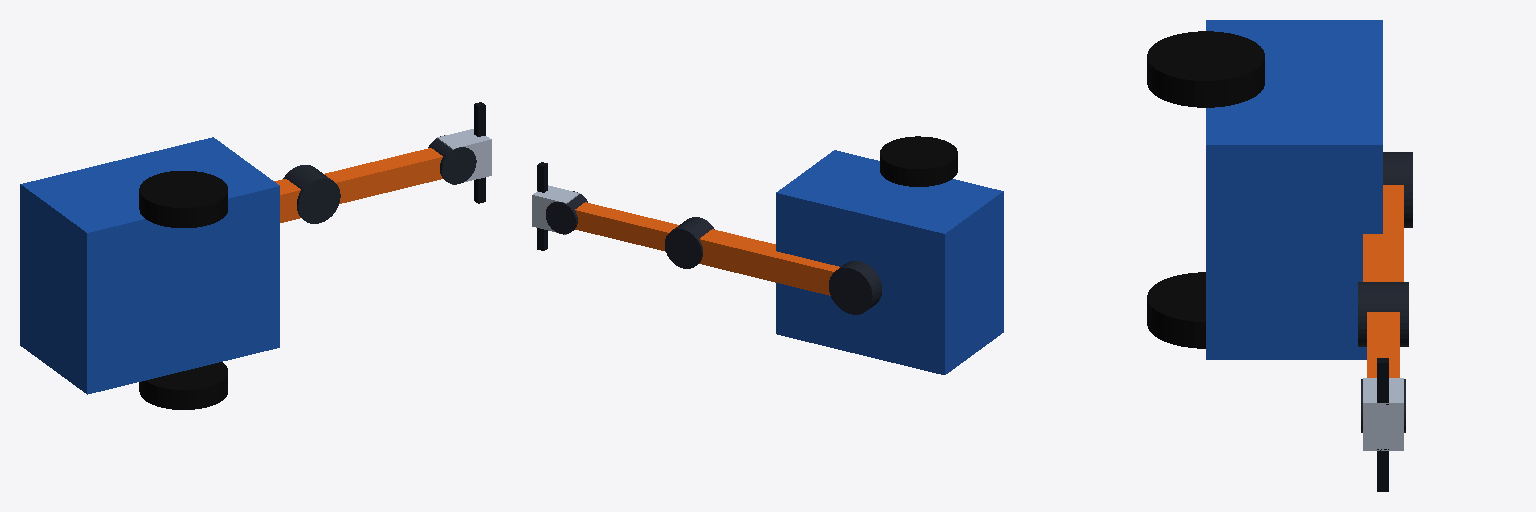
URDF robot description (mm_mobile):
<?xml version="1.0"?>
<robot name="mm_mobile">
  <link name="base_link">
    <visual>
      <origin xyz="0 0 0" rpy="0 0 0"/>
      <geometry>
        <box size="0.5 0.3 0.4"/>
      </geometry>
      <material name="hero_blue">
        <color rgba="0.16 0.38 0.72 1.0"/>
      </material>
    </visual>
    <!-- Collision box is shorter than the visual chassis and shifted down: the
         shoulder pivot sits at +0.15 and the upper-arm collision box (0.08 tall)
         reaches down to +0.11, so a full-height chassis collider interpenetrates
         the arm and contact impulses lock the shoulder joint solid. -->
    <collision>
      <origin xyz="0 0 -0.05" rpy="0 0 0"/>
      <geometry>
        <box size="0.5 0.2 0.4"/>
      </geometry>
    </collision>
  </link>

  <link name="left_wheel">
    <visual>
      <origin xyz="0 0 0" rpy="0 0 0"/>
      <material name="wheel_black">
        <color rgba="0.08 0.08 0.08 1.0"/>
      </material>
      <geometry>
        <cylinder radius="0.1" length="0.05"/>
      </geometry>
    </visual>
    <collision>
      <origin xyz="0 0 0" rpy="1.5708 0 0"/>
      <geometry>
        <cylinder radius="0.1" length="0.05"/>
      </geometry>
    </collision>
  </link>

  <link name="right_wheel">
    <visual>
      <origin xyz="0 0 0" rpy="0 0 0"/>
      <material name="wheel_black">
        <color rgba="0.08 0.08 0.08 1.0"/>
      </material>
      <geometry>
        <cylinder radius="0.1" length="0.05"/>
      </geometry>
    </visual>
    <collision>
      <origin xyz="0 0 0" rpy="1.5708 0 0"/>
      <geometry>
        <cylinder radius="0.1" length="0.05"/>
      </geometry>
    </collision>
  </link>

  <link name="upper_arm_link">
    <visual>
      <origin xyz="0.25 0 0" rpy="0 0 0"/>
      <geometry>
        <box size="0.5 0.07 0.07"/>
      </geometry>
      <material name="hero_arm"><color rgba="0.90 0.42 0.12 1.0"/></material>
    </visual>
    <visual>
      <origin xyz="0 0 0" rpy="1.5708 0 0"/>
      <geometry><cylinder radius="0.065" length="0.10"/></geometry>
      <material name="hero_joint"><color rgba="0.16 0.18 0.22 1.0"/></material>
    </visual>
    <!-- Collision boxes along the arm chain are slightly shorter than the visuals
         so adjacent links do not interpenetrate: overlapping colliders on jointed
         links generate contact impulses that lock the joint solid. -->
    <collision>
      <origin xyz="0.24 0 0" rpy="0 0 0"/>
      <geometry>
        <box size="0.46 0.08 0.08"/>
      </geometry>
    </collision>
  </link>

  <link name="forearm_link">
    <visual>
      <origin xyz="0.2 0 0" rpy="0 0 0"/>
      <geometry>
        <box size="0.4 0.055 0.055"/>
      </geometry>
      <material name="hero_arm"><color rgba="0.90 0.42 0.12 1.0"/></material>
    </visual>
    <visual>
      <origin xyz="0 0 0" rpy="1.5708 0 0"/>
      <geometry><cylinder radius="0.055" length="0.085"/></geometry>
      <material name="hero_joint"><color rgba="0.16 0.18 0.22 1.0"/></material>
    </visual>
    <collision>
      <origin xyz="0.18 0 0" rpy="0 0 0"/>
      <geometry>
        <box size="0.34 0.06 0.06"/>
      </geometry>
    </collision>
  </link>

  <link name="gripper_base_link">
    <visual>
      <origin xyz="0 0 0" rpy="0 0 0"/>
      <geometry>
        <box size="0.10 0.07 0.09"/>
      </geometry>
      <material name="hero_shell"><color rgba="0.72 0.76 0.82 1.0"/></material>
    </visual>
    <visual>
      <origin xyz="-0.035 0 0" rpy="1.5708 0 0"/>
      <geometry><cylinder radius="0.045" length="0.075"/></geometry>
      <material name="hero_joint"><color rgba="0.16 0.18 0.22 1.0"/></material>
    </visual>
    <collision>
      <origin xyz="0 0 0" rpy="0 0 0"/>
      <geometry>
        <box size="0.06 0.04 0.04"/>
      </geometry>
    </collision>
  </link>

  <link name="left_finger_link">
    <!-- Visual is shifted +0.04 forward (local X) of the collision box: the finger
         joints are offset from gripper_base_link only laterally (Z), so the
         unmodified visual sits flush at the forearm tip while the weld-anchor
         computed in sim.rs (canonical_grasp_anchor) now gives the grasped object a
         forward standoff, leaving the rendered pads floating behind the held
         object. Shifting only the visual keeps grasp contact geometry (and thus
         grasp physics) exactly where it was. -->
    <visual>
      <origin xyz="0.04 0 -0.04" rpy="0 0 0"/>
      <geometry>
        <box size="0.02 0.02 0.08"/>
      </geometry>
      <material name="hero_gripper"><color rgba="0.10 0.12 0.15 1.0"/></material>
    </visual>
    <collision>
      <origin xyz="0 0 -0.04" rpy="0 0 0"/>
      <geometry>
        <box size="0.02 0.02 0.08"/>
      </geometry>
    </collision>
  </link>

  <link name="right_finger_link">
    <!-- See left_finger_link: visual-only forward shift to meet the grasp
         weld-anchor's new forward standoff; collision left untouched. -->
    <visual>
      <origin xyz="0.04 0 0.04" rpy="0 0 0"/>
      <geometry>
        <box size="0.02 0.02 0.08"/>
      </geometry>
      <material name="hero_gripper"><color rgba="0.10 0.12 0.15 1.0"/></material>
    </visual>
    <collision>
      <origin xyz="0 0 0.04" rpy="0 0 0"/>
      <geometry>
        <box size="0.02 0.02 0.08"/>
      </geometry>
    </collision>
  </link>

  <joint name="left_wheel_joint" type="continuous">
    <parent link="base_link"/>
    <child link="left_wheel"/>
    <origin xyz="0 -0.15 0.225" rpy="0 0 0"/>
    <axis xyz="0 0 1"/>
  </joint>

  <joint name="right_wheel_joint" type="continuous">
    <parent link="base_link"/>
    <child link="right_wheel"/>
    <origin xyz="0 -0.15 -0.225" rpy="0 0 0"/>
    <axis xyz="0 0 1"/>
  </joint>

  <joint name="shoulder_joint" type="revolute">
    <parent link="base_link"/>
    <child link="upper_arm_link"/>
    <origin xyz="0 0.15 0" rpy="0 0 0"/>
    <axis xyz="0 1 0"/>
  </joint>

  <joint name="elbow_joint" type="revolute">
    <parent link="upper_arm_link"/>
    <child link="forearm_link"/>
    <origin xyz="0.5 0 0" rpy="0 0 0"/>
    <axis xyz="0 1 0"/>
  </joint>

  <joint name="gripper_base_joint" type="fixed">
    <parent link="forearm_link"/>
    <child link="gripper_base_link"/>
    <origin xyz="0.4 0 0" rpy="0 0 0"/>
  </joint>

  <joint name="left_finger_joint" type="revolute">
    <parent link="gripper_base_link"/>
    <child link="left_finger_link"/>
    <origin xyz="0 0 -0.04" rpy="0 0 0"/>
    <axis xyz="0 1 0"/>
  </joint>

  <joint name="right_finger_joint" type="revolute">
    <parent link="gripper_base_link"/>
    <child link="right_finger_link"/>
    <origin xyz="0 0 0.04" rpy="0 0 0"/>
    <axis xyz="0 1 0"/>
  </joint>
</robot>

--- Render facts (derived) ---
3 views of the same robot in one strip: view 1: azimuth 30°, elevation 25°; view 2: azimuth 150°, elevation 25°; view 3: azimuth 270°, elevation 25° (orthographic).
Model mm_mobile with 8 links and 7 joints (4 revolute, 2 continuous, 1 fixed), rooted at base_link, posed every joint at zero.
Visible links, largest first — view 1: base_link, forearm_link, left_wheel, right_wheel, gripper_base_link, upper_arm_link; view 2: base_link, upper_arm_link, forearm_link, left_wheel, gripper_base_link; view 3: base_link, left_wheel, upper_arm_link, forearm_link, right_wheel, gripper_base_link, right_finger_link.
Boxes of the visible links, bbox=[...] form: base_link: bbox=[20, 137, 279, 394]; forearm_link: bbox=[283, 148, 442, 223]; left_wheel: bbox=[139, 171, 227, 227]; right_wheel: bbox=[139, 362, 227, 409]; gripper_base_link: bbox=[428, 129, 491, 184]; upper_arm_link: bbox=[274, 179, 300, 222]; base_link: bbox=[776, 150, 1003, 374]; upper_arm_link: bbox=[699, 229, 881, 314]; forearm_link: bbox=[575, 202, 714, 268]; left_wheel: bbox=[880, 136, 957, 186]; gripper_base_link: bbox=[532, 185, 587, 234]; base_link: bbox=[1206, 20, 1382, 359]; left_wheel: bbox=[1147, 31, 1264, 107]; upper_arm_link: bbox=[1363, 152, 1412, 281]; forearm_link: bbox=[1358, 282, 1408, 377]; right_wheel: bbox=[1147, 272, 1205, 348]; gripper_base_link: bbox=[1361, 378, 1405, 450]; right_finger_link: bbox=[1377, 358, 1388, 404].
Bounding box of the posed robot: 1.2 × 0.45 × 0.5 m (x, y, z).
Geometry: primitives only (box / cylinder / sphere), no mesh files.
